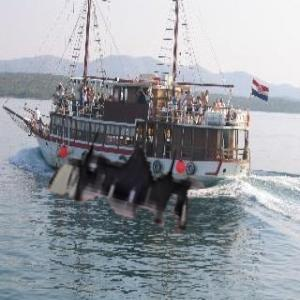drone: (39, 95, 229, 285)
